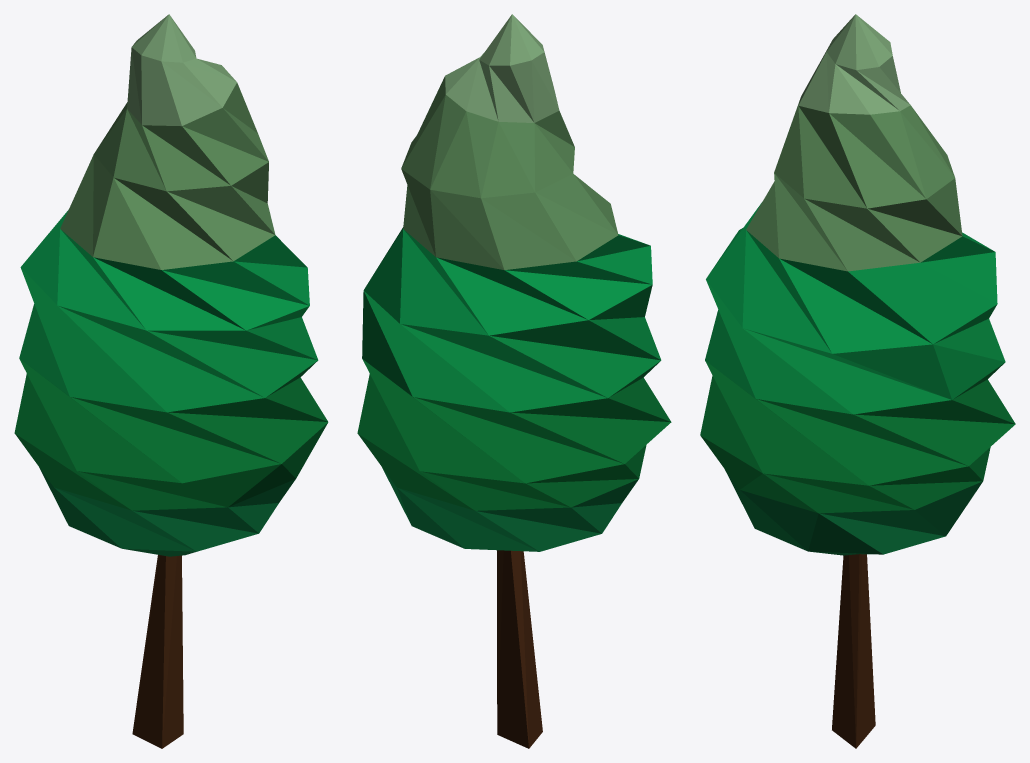
Rendered from Glade_Tree1.fbx.
3 views of the same model, side by side, from view 1: azimuth 30°, elevation 25°; view 2: azimuth 150°, elevation 25°; view 3: azimuth 270°, elevation 25° (orthographic).
Parts seen in each view (by area): view 1: Cone.001; view 2: Cone.001; view 3: Cone.001.
Boxes of the visible parts, x1,y1,x2,y2 form: Cone.001: (14, 14, 328, 748); Cone.001: (357, 14, 671, 748); Cone.001: (700, 14, 1015, 748).
Bounding box in the file's own units: 212 × 540 × 212.
